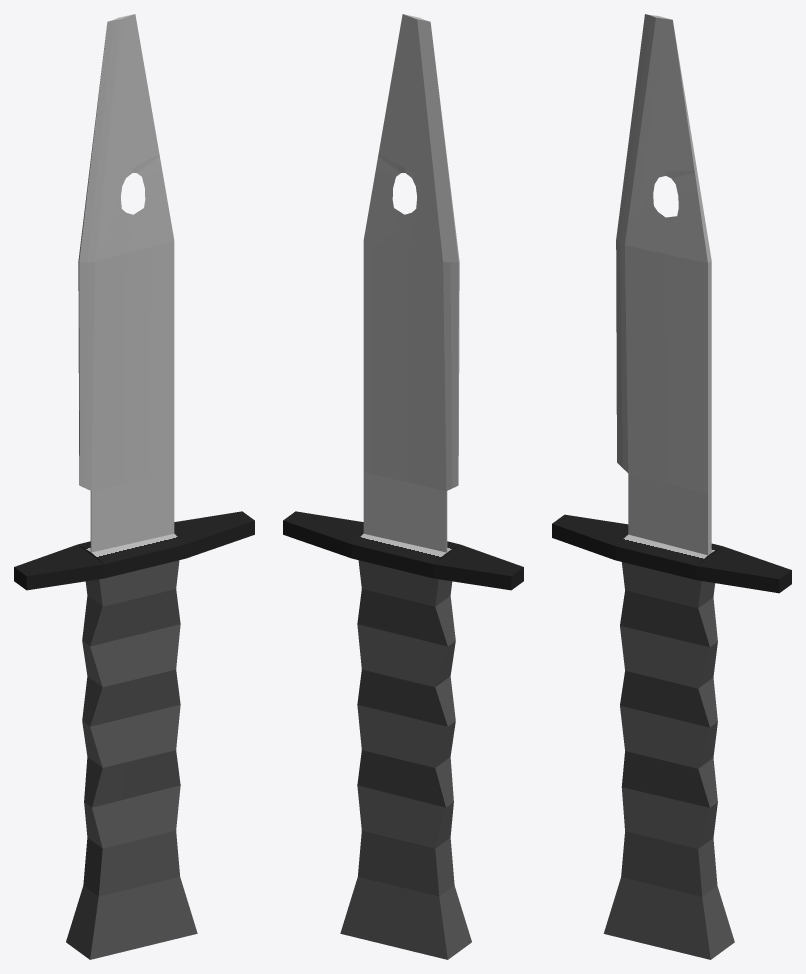
Rendered from bayonet-by-taah-whbEFs5DM8.glb.
3 renders of one model, left to right at view 1: azimuth 30°, elevation 25°; view 2: azimuth 150°, elevation 25°; view 3: azimuth 330°, elevation 25°, orthographic.
Parts seen in each view (by area): view 1: Bayonet; view 2: Bayonet; view 3: Bayonet.
Boxes of the visible parts, x1,y1,x2,y2 form: Bayonet: (14,14,254,959); Bayonet: (283,14,523,959); Bayonet: (552,14,791,959).
Bounding box in the file's own units: 1.72 × 6.65 × 0.3528.
1 material, 1 textured.
